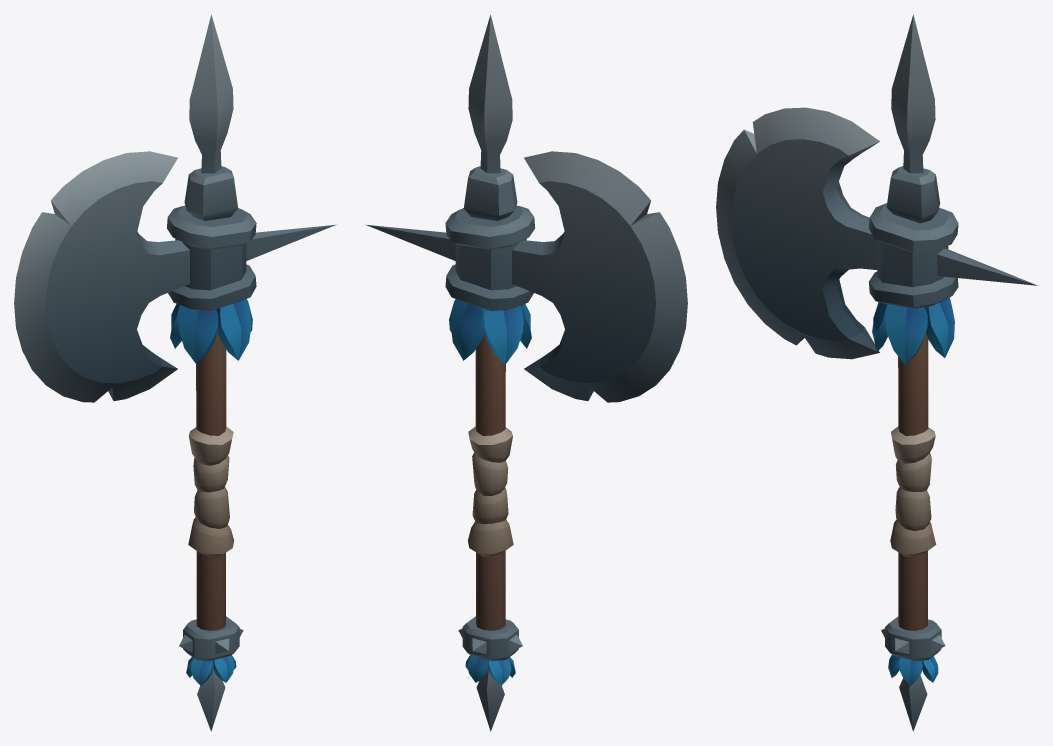
The model's file is XW_halberd.glb.
3 renders of one model, left to right at view 1: azimuth 30°, elevation 25°; view 2: azimuth 150°, elevation 25°; view 3: azimuth 330°, elevation 25°, orthographic.
Parts seen in each view (by area): view 1: halberd; view 2: halberd; view 3: halberd.
Boxes of the visible parts, left/top/right/bottom form: halberd: left=14, top=14, right=336, bottom=731; halberd: left=365, top=14, right=687, bottom=731; halberd: left=716, top=14, right=1038, bottom=731.
Size of the model in its own units: 1.29 by 2.75 by 0.2911.
